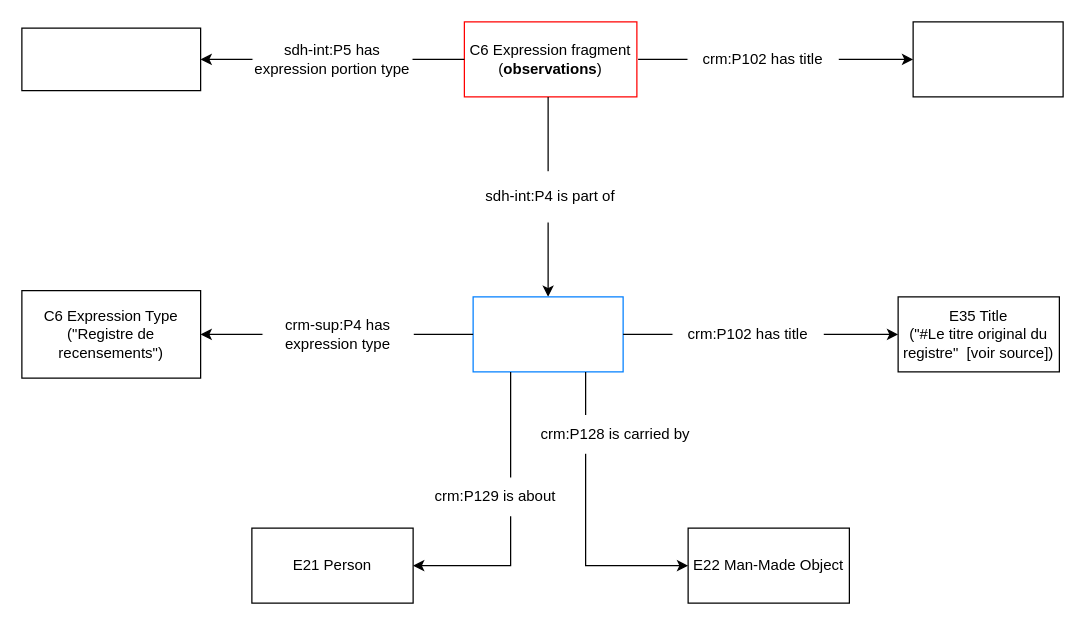
The diagram is 1085 pixels wide and 625 high, and some of its shapes have lost their labels. Here are the shapes that lost their labels. From the top down, the box of each, then its label:
(21, 27, 201, 91): C3 Expression Portion Type ("Cellule")
(912, 21, 1063, 97): E35 Title ("Observations")
(472, 296, 623, 372): F2 Expression
